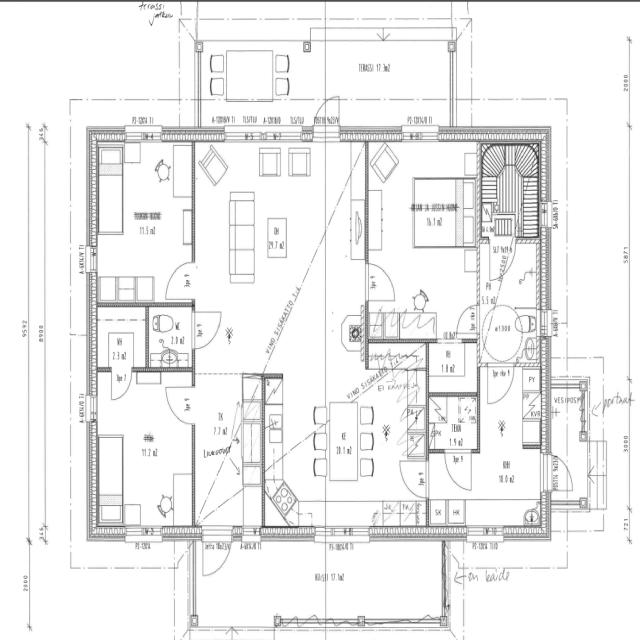door: (161, 256, 200, 302), (200, 523, 232, 578), (189, 306, 225, 353), (482, 359, 516, 407), (363, 257, 398, 303), (312, 95, 345, 143), (484, 232, 518, 276), (164, 381, 196, 426), (444, 446, 474, 491), (546, 451, 576, 496), (454, 300, 479, 336), (110, 366, 134, 402)
window: (218, 122, 273, 146), (122, 123, 169, 145), (327, 522, 373, 542), (398, 124, 442, 144), (123, 524, 167, 544), (464, 524, 506, 542), (538, 448, 550, 498), (86, 240, 98, 276), (86, 392, 98, 422)
zone: (92, 138, 195, 304), (94, 371, 194, 531), (368, 138, 478, 254), (474, 366, 546, 534), (333, 356, 417, 496), (367, 245, 479, 338), (192, 370, 257, 523), (322, 398, 382, 506), (91, 304, 149, 369), (147, 304, 195, 371), (427, 393, 479, 451), (428, 340, 478, 394), (440, 444, 475, 492), (545, 450, 575, 494), (398, 457, 429, 499)
